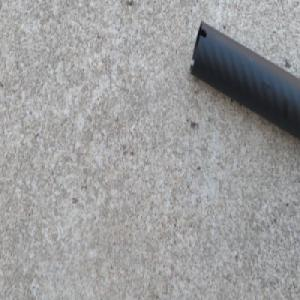LuggagePart: (189, 18, 300, 147)
